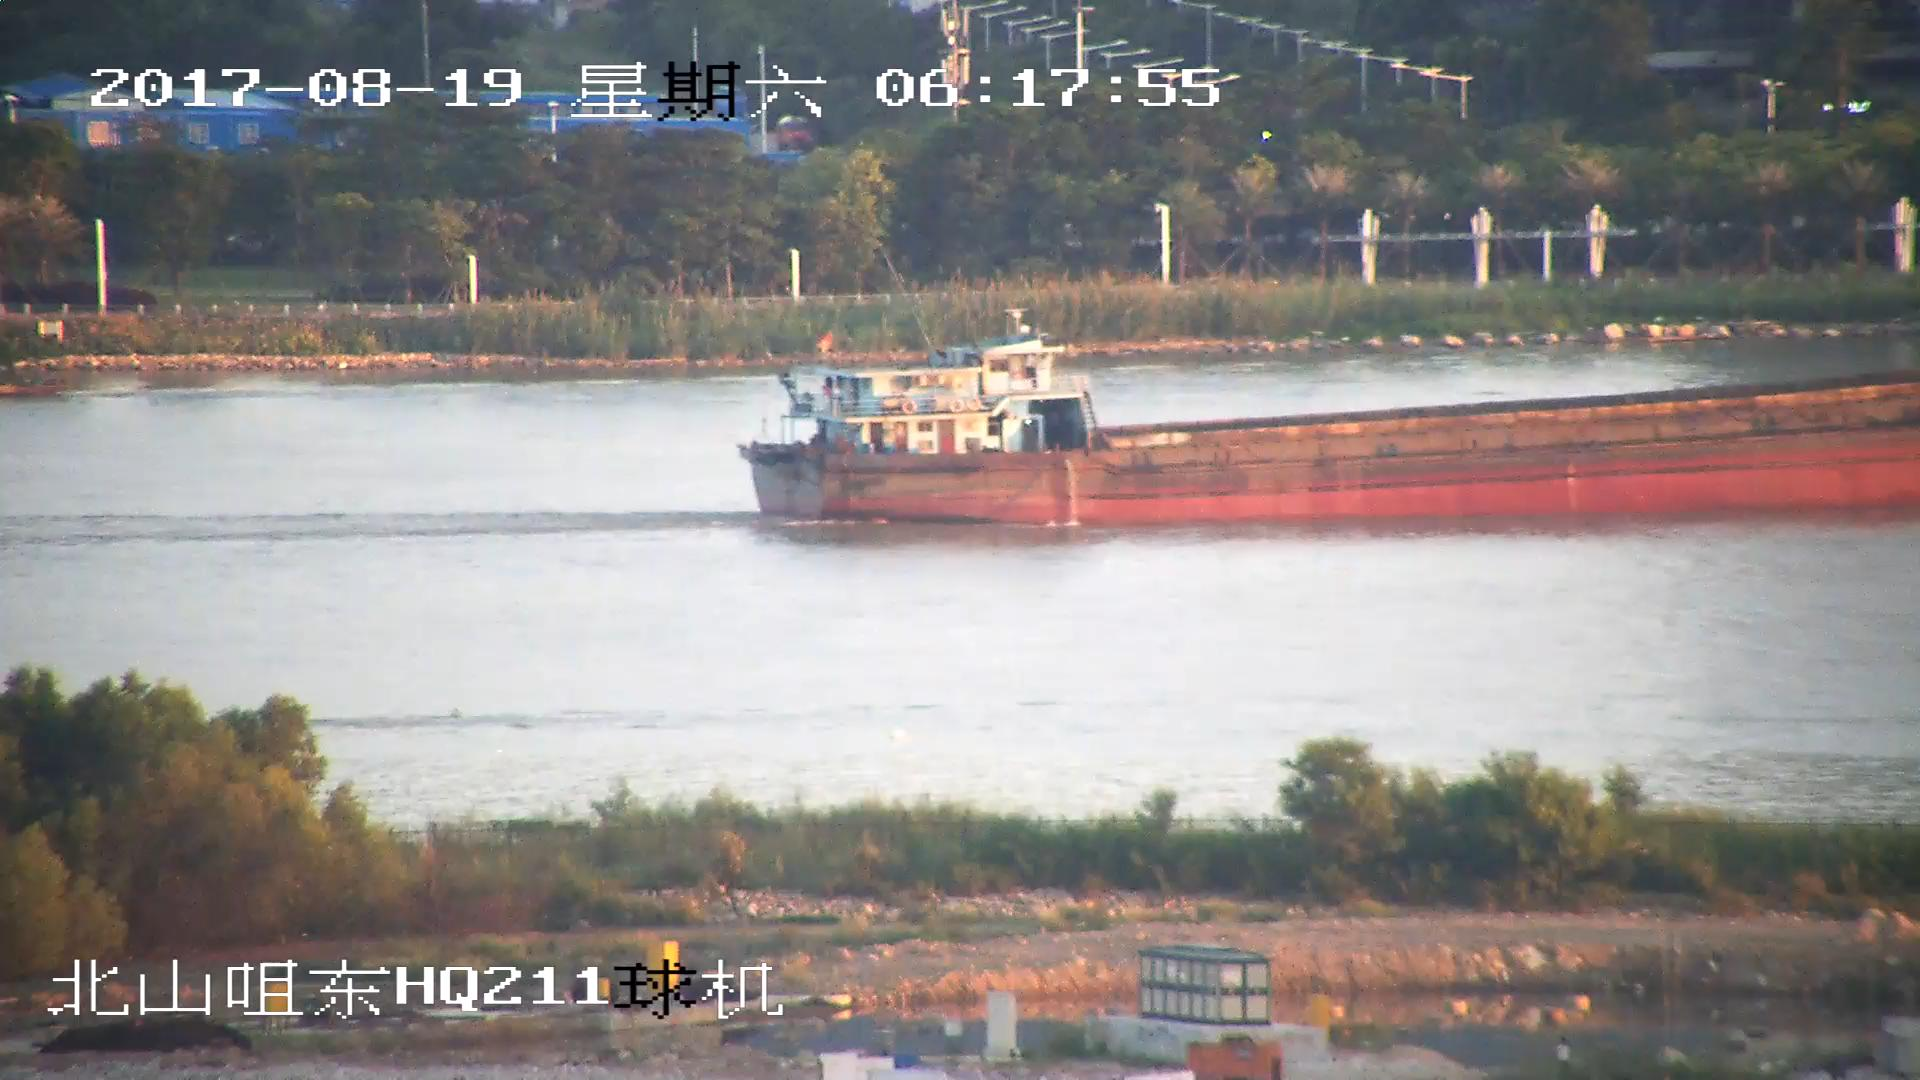bulk cargo carrier: (727, 305, 1920, 525)
